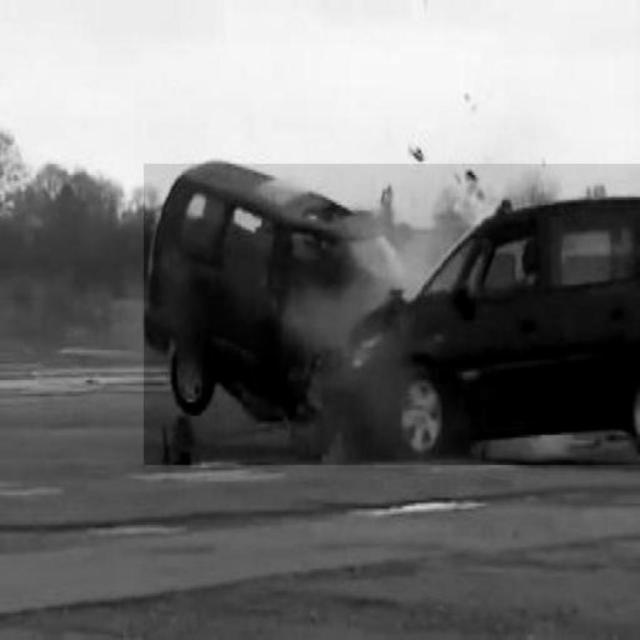accident: (144, 164, 640, 465)
